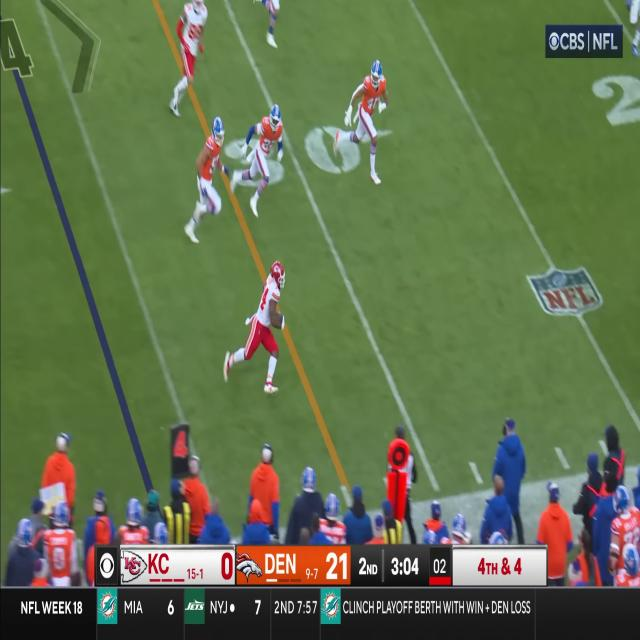Player: (241, 255, 285, 395), (244, 102, 284, 221), (350, 63, 388, 188), (171, 1, 208, 116), (193, 112, 224, 245)
